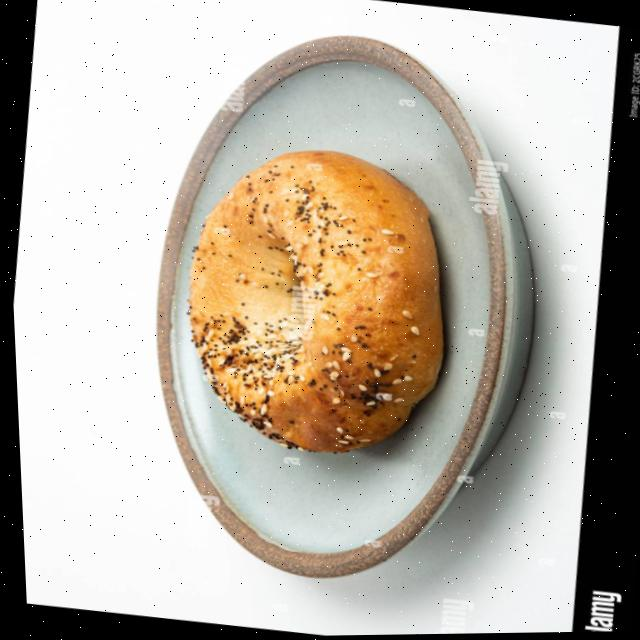Bagel: (185, 150, 440, 453)
